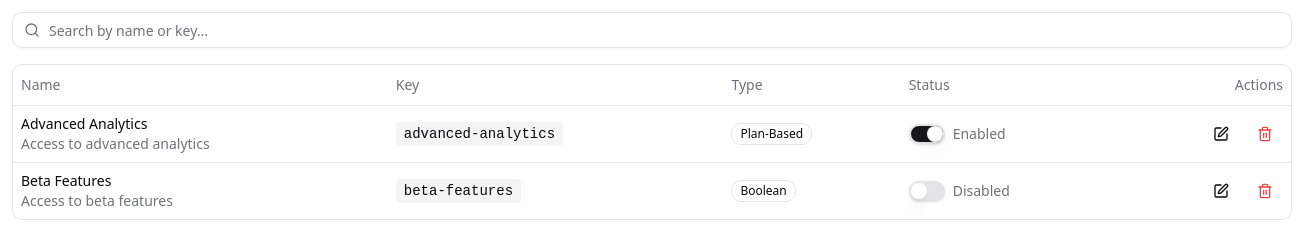
FeatureFlagsList › filters flags by search query
This screenshot has width=1304, height=237.
Step 1. Type "analytics" into the field with placeholder "Search by name or key..." → (652, 30), box [12, 12, 1292, 48]
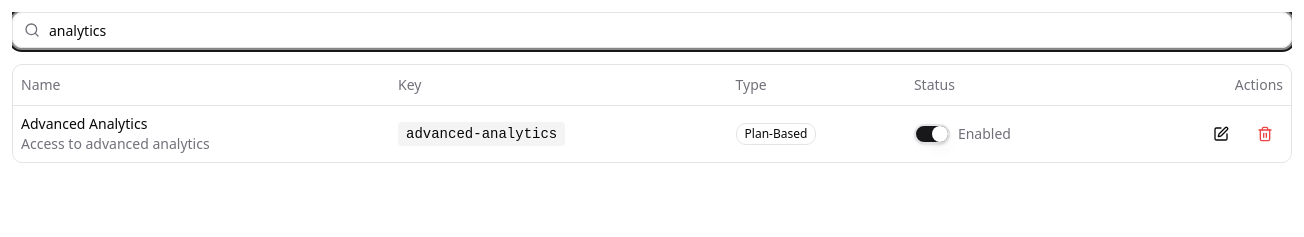
Check: the text "Advanced Analytics" is shown, box [21, 114, 147, 132]
Check: the text "Beta Features" is gone
